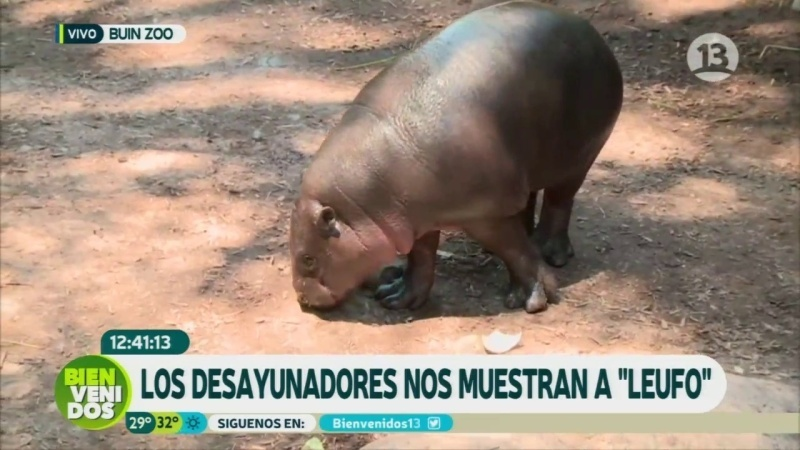hipopotamo: (258, 2, 635, 333)
